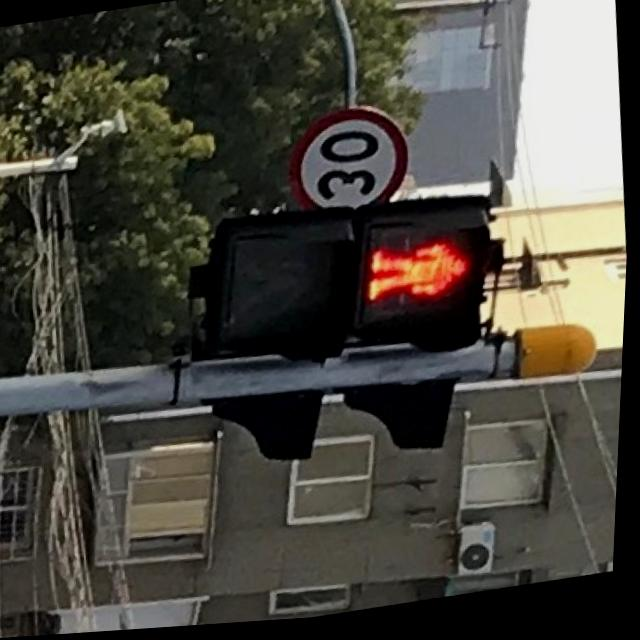red_light: (351, 216, 491, 349)
